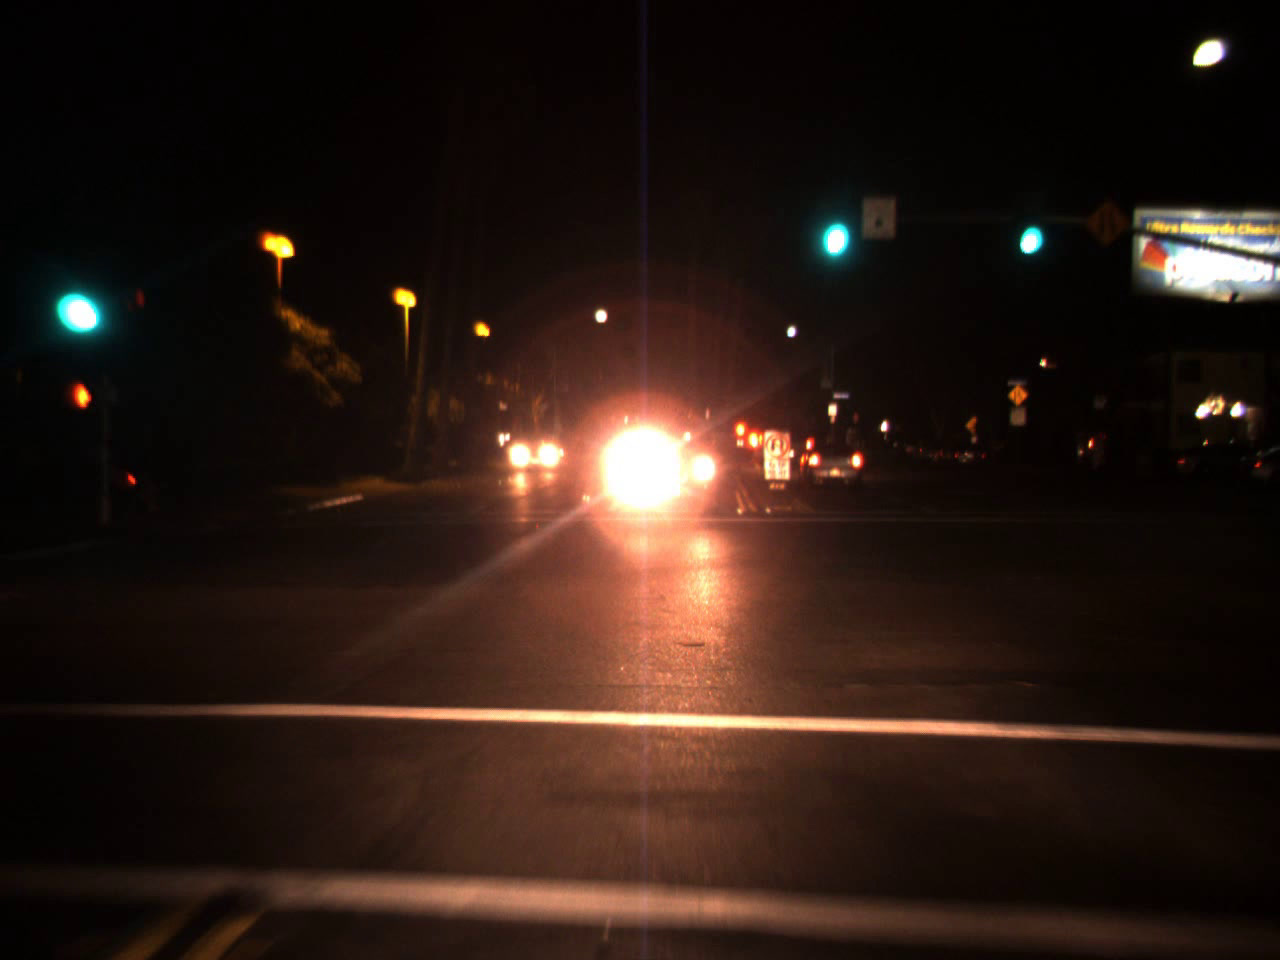go: (54, 258, 104, 342), (809, 181, 855, 268), (1010, 190, 1047, 265)
